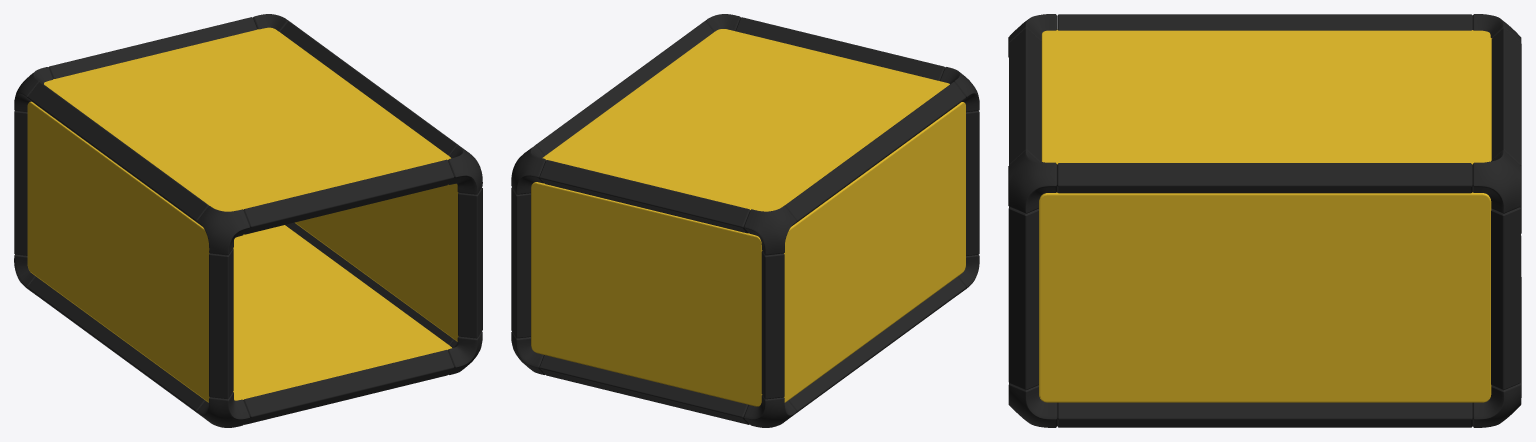
The picture shows the model from 3 angles, left to right: view 1: azimuth 30°, elevation 25°; view 2: azimuth 150°, elevation 25°; view 3: azimuth 270°, elevation 25°; orthographic projection. The views are drawn at different scales.
Parts seen in each view (by area): view 1: 229x329x154; view 2: 229x329x154; view 3: 229x329x154.
Boxes of the visible parts, box(x1,y1,x2,y2) form: 229x329x154: box(14, 14, 482, 427); 229x329x154: box(511, 14, 979, 427); 229x329x154: box(1008, 14, 1521, 427).
Bounding box in the file's own units: 0.3067 × 0.2316 × 0.4063.
